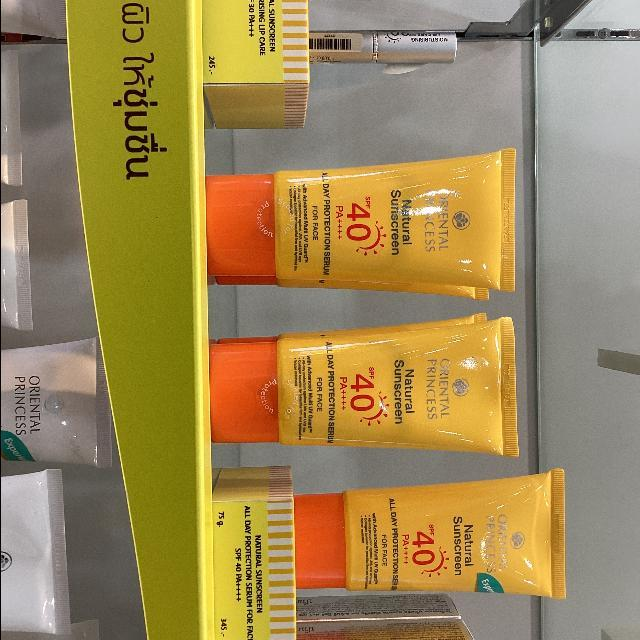Squeeze Tube: (161, 111, 599, 640), (200, 140, 524, 302), (203, 310, 530, 461), (284, 458, 572, 599)
